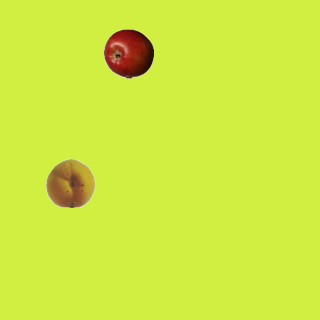Apple Braeburn: (103, 28, 153, 78)
Peach 2: (45, 157, 95, 207)
